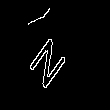N_NE: (32, 22, 78, 88)
